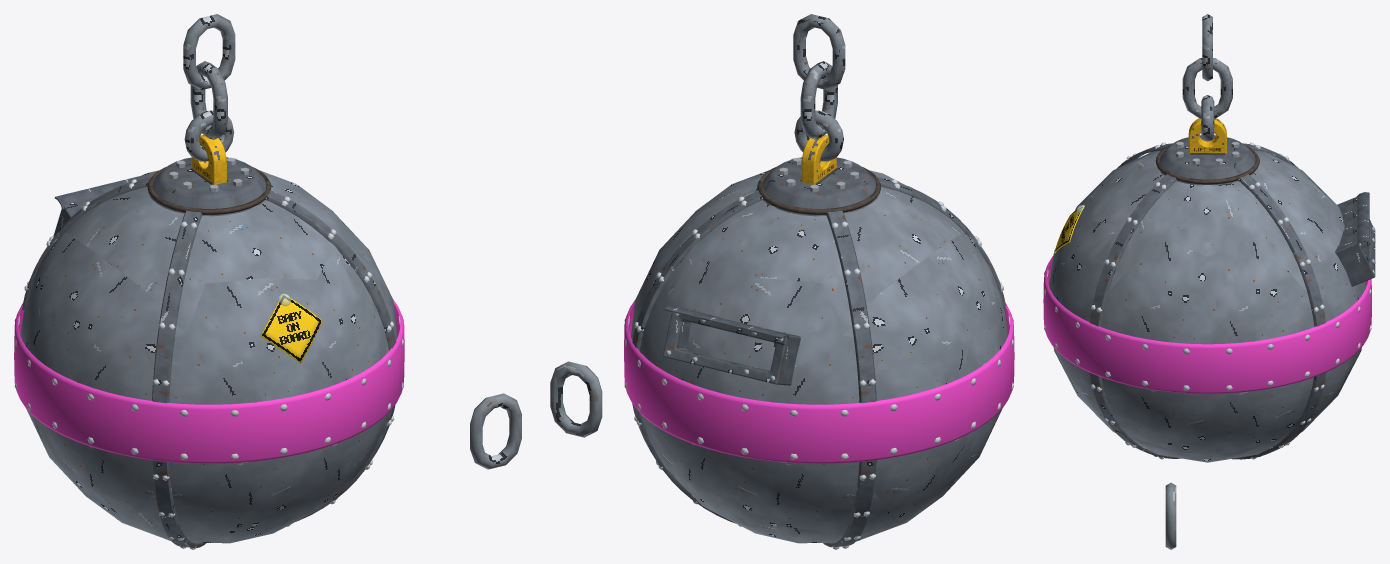
The model's file is x_wreck.glb.
3 renders of one model, left to right at view 1: azimuth 30°, elevation 25°; view 2: azimuth 150°, elevation 25°; view 3: azimuth 270°, elevation 25°, orthographic. The views are drawn at different scales.
Parts seen in each view (by area): view 1: ball_steel, ball_accent, ball_strap, ball_chain, ball_iron, ball_sign, link, ball_rivet, slot, ball_lug, ball_weld; view 2: ball_steel, ball_accent, ball_strap, ball_chain, slot, ball_iron, link, ball_rivet, ball_lug, ball_weld; view 3: ball_steel, ball_accent, ball_strap, ball_chain, slot, ball_iron, ball_rivet, ball_lug, ball_weld, link, ball_sign.
Boxes of the visible parts, box(x1,y1,x2,y2) form: ball_steel: box(20, 170, 397, 543); ball_accent: box(14, 300, 404, 463); ball_strap: box(22, 176, 396, 547); ball_chain: box(183, 14, 235, 161); ball_iron: box(148, 157, 266, 216); ball_sign: box(260, 293, 322, 363); link: box(470, 393, 521, 469); ball_rivet: box(14, 158, 403, 549); slot: box(53, 176, 139, 236); ball_lug: box(192, 135, 226, 184); ball_weld: box(147, 167, 271, 214); ball_steel: box(631, 170, 1008, 543); ball_accent: box(624, 300, 1014, 463); ball_strap: box(632, 176, 1006, 547); ball_chain: box(793, 14, 845, 161); slot: box(663, 306, 800, 385); ball_iron: box(762, 157, 880, 216); link: box(550, 361, 602, 437); ball_rivet: box(624, 158, 1013, 549); ball_lug: box(801, 135, 836, 184); ball_weld: box(757, 167, 880, 214); ball_steel: box(1048, 150, 1366, 462); ball_accent: box(1043, 256, 1371, 393); ball_strap: box(1089, 143, 1326, 459); ball_chain: box(1182, 14, 1232, 141); slot: box(1335, 192, 1375, 286); ball_iron: box(1157, 135, 1258, 185); ball_rivet: box(1044, 142, 1371, 459); ball_lug: box(1188, 118, 1226, 153); ball_weld: box(1155, 144, 1259, 184); link: box(1165, 482, 1176, 549); ball_sign: box(1054, 205, 1084, 253).
Bounding box in the file's own units: 3.04 × 3.25 × 2.26.
Materials: 13 (9 with a texture image).
